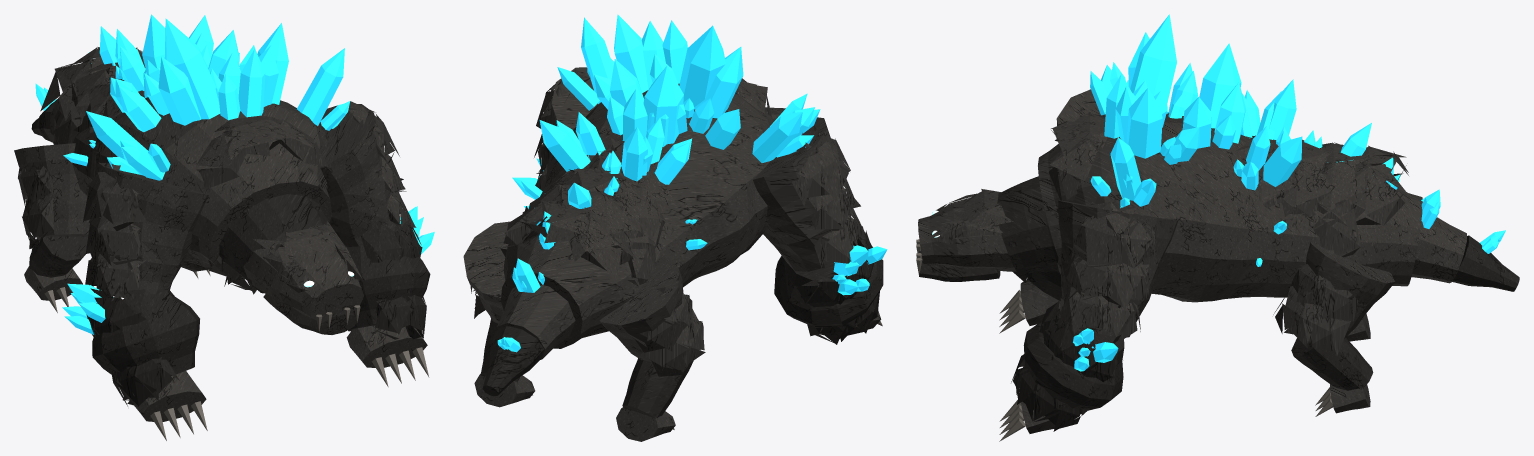
Rendered from beast-crystal.glb.
3 renders of one model, left to right at view 1: azimuth 30°, elevation 25°; view 2: azimuth 150°, elevation 25°; view 3: azimuth 270°, elevation 25°, orthographic.
Parts seen in each view (by area): view 1: torso_mesh, back_crystals_mesh, fore_r_upper_mesh, fore_r_lower_mesh, fore_l_upper_mesh, head_mesh, fore_l_lower_mesh, hind_r_upper_mesh, neck_mesh, fore_l_paw_mesh, hind_r_lower_mesh, fore_r_paw_mesh (+6 smaller); view 2: torso_mesh, back_crystals_mesh, fore_r_upper_mesh, hind_r_upper_mesh, fore_r_lower_mesh, tail1_mesh, hind_l_upper_mesh, tail2_mesh, hind_r_lower_mesh, fore_l_upper_mesh, hind_r_foot_mesh, fore_r_crystals_mesh (+2 smaller); view 3: torso_mesh, back_crystals_mesh, fore_l_upper_mesh, fore_l_lower_mesh, hind_l_upper_mesh, head_mesh, neck_mesh, tail1_mesh, hind_l_lower_mesh, tail2_mesh, jaw_mesh, fore_r_paw_mesh (+4 smaller).
Part boxes in pixels (<box>): torso_mesh: <box>40,47,331,294</box>; back_crystals_mesh: <box>63,14,350,180</box>; fore_r_upper_mesh: <box>83,161,208,301</box>; fore_r_lower_mesh: <box>86,288,199,407</box>; fore_l_upper_mesh: <box>318,101,416,247</box>; head_mesh: <box>243,221,363,319</box>; fore_l_lower_mesh: <box>346,218,430,339</box>; hind_r_upper_mesh: <box>14,143,90,248</box>; neck_mesh: <box>219,194,327,293</box>; fore_l_paw_mesh: <box>346,325,427,367</box>; hind_r_lower_mesh: <box>29,236,87,277</box>; fore_r_paw_mesh: <box>134,371,206,421</box>; torso_mesh: <box>495,78,774,348</box>; back_crystals_mesh: <box>521,14,820,250</box>; fore_r_upper_mesh: <box>753,117,865,271</box>; hind_r_upper_mesh: <box>599,255,705,376</box>; fore_r_lower_mesh: <box>774,218,883,344</box>; tail1_mesh: <box>496,284,575,359</box>; hind_l_upper_mesh: <box>463,221,510,323</box>; tail2_mesh: <box>482,325,544,396</box>; hind_r_lower_mesh: <box>622,358,693,417</box>; fore_l_upper_mesh: <box>534,67,598,191</box>; hind_r_foot_mesh: <box>616,407,675,441</box>; fore_r_crystals_mesh: <box>832,245,887,295</box>; torso_mesh: <box>1038,112,1422,302</box>; back_crystals_mesh: <box>1090,14,1400,266</box>; fore_l_upper_mesh: <box>1057,200,1177,343</box>; fore_l_lower_mesh: <box>1011,298,1124,431</box>; hind_l_upper_mesh: <box>1273,242,1394,355</box>; head_mesh: <box>918,189,1016,271</box>; neck_mesh: <box>995,176,1060,275</box>; tail1_mesh: <box>1411,217,1466,283</box>; hind_l_lower_mesh: <box>1291,337,1373,390</box>; tail2_mesh: <box>1453,235,1519,291</box>; jaw_mesh: <box>919,251,1000,281</box>; fore_r_paw_mesh: <box>1020,280,1060,325</box>.
Bounding box in the file's own units: 7.13 × 6.49 × 10.41.
Materials: 5 (2 with a texture image).
